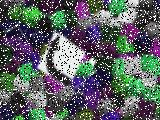Right: (37, 32, 85, 88)
